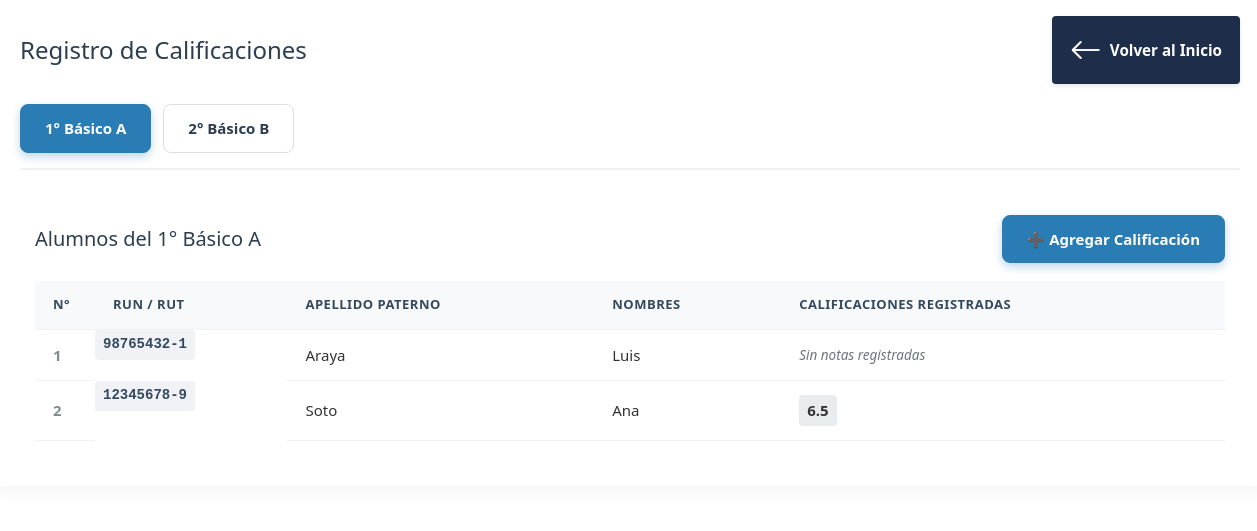
Scenario: Calificaciones › Modo crear calificación › muestra botón 'Guardar Calificación' en modo crear
Check: the text "Araya" is shown, box [288,329,594,380]
Click the button "➕ Agregar Calificación". click: (1113, 239)
box: [1002,214,1225,263]
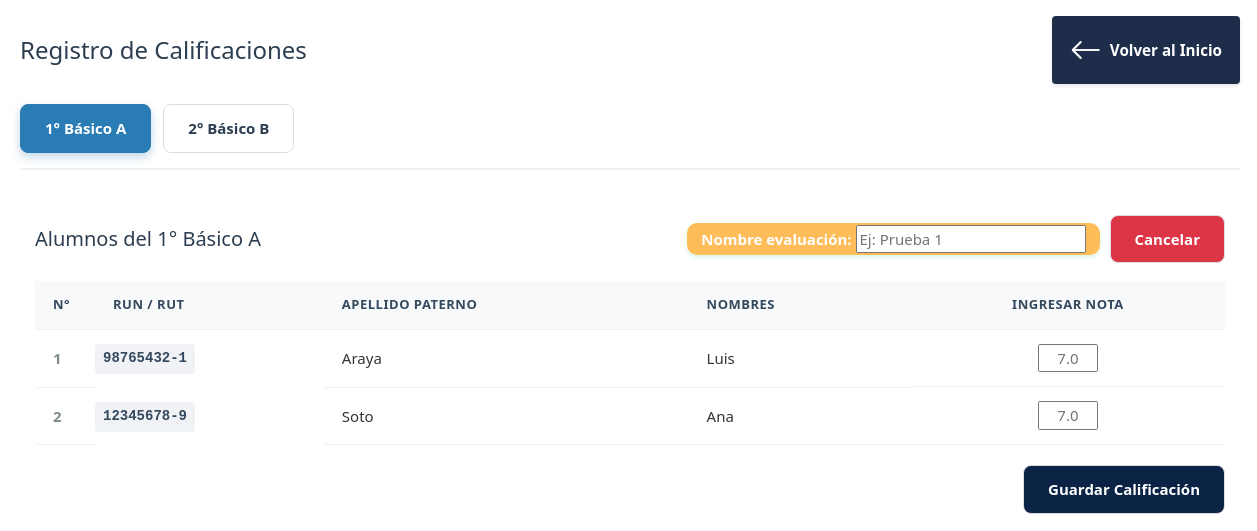
Check: the button "Guardar Calificación" is shown, box [1023,465,1225,514]
